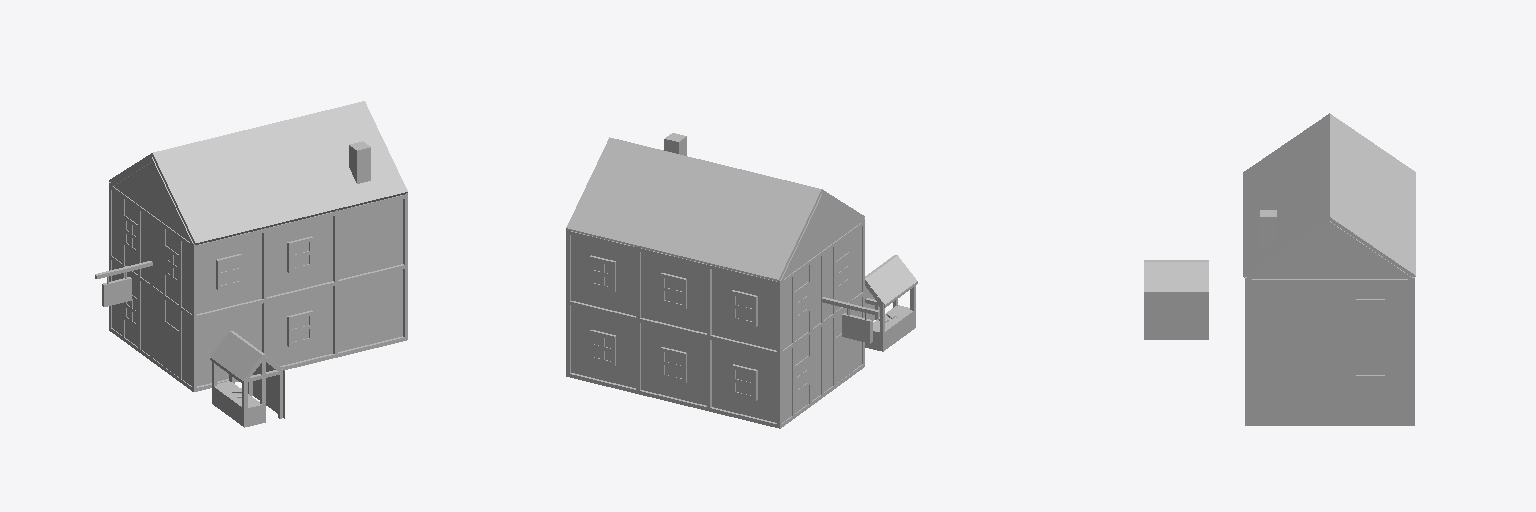
File: timberframedclothier_white_blue.obj
The picture shows the model from 3 angles: view 1: azimuth 30°, elevation 25°; view 2: azimuth 150°, elevation 25°; view 3: azimuth 270°, elevation 25°; orthographic projection.
Parts seen in each view (by area): view 1: Cube.005, Cube.007_Cube.011, Cube.011_Cube.015, Cube.018_Cube.016, Cube.056_Cube.081, Cube.001_Cube.058, Cube.013_Cube.080, Cube.006_Cube.010, Cube.055_Cube.059, Cube.026_Cube.019, Cube.073_Cube.078, Cube.012_Cube.017 (+5 smaller); view 2: Cube.005, Cube.007_Cube.011, Cube.023_Cube.026, Cube.022_Cube.025, Cube.021_Cube.024, Cube.015_Cube.020, Cube.019_Cube.022, Cube.017_Cube.021, Cube.014_Cube.018, Cube.008, Cube.020_Cube.023, Cube.073_Cube.078 (+6 smaller); view 3: Cube.005, Cube.007_Cube.011, Cube.147_Cube.153, Cube.003, Cube.033, Cube.027, Cube.047_Cube.049, Cube.031, Cube.016_Cube.013, Cube.006_Cube.010, Cube.012_Cube.017, Cube.035 (+4 smaller).
Boxes of the visible parts, <box> form: Cube.005: <box>112,162,402,385</box>; Cube.007_Cube.011: <box>109,101,407,244</box>; Cube.011_Cube.015: <box>195,264,406,319</box>; Cube.018_Cube.016: <box>195,195,406,249</box>; Cube.056_Cube.081: <box>216,254,242,289</box>; Cube.001_Cube.058: <box>287,310,312,346</box>; Cube.013_Cube.080: <box>287,236,312,272</box>; Cube.006_Cube.010: <box>349,141,370,183</box>; Cube.055_Cube.059: <box>197,336,406,391</box>; Cube.026_Cube.019: <box>192,243,196,391</box>; Cube.073_Cube.078: <box>102,277,131,306</box>; Cube.012_Cube.017: <box>403,193,407,339</box>; Cube.005: <box>571,199,861,422</box>; Cube.007_Cube.011: <box>566,137,864,280</box>; Cube.023_Cube.026: <box>567,373,776,427</box>; Cube.022_Cube.025: <box>567,301,776,355</box>; Cube.021_Cube.024: <box>570,231,776,284</box>; Cube.015_Cube.020: <box>732,290,757,326</box>; Cube.019_Cube.022: <box>661,347,686,383</box>; Cube.017_Cube.021: <box>590,330,615,365</box>; Cube.014_Cube.018: <box>661,273,686,308</box>; Cube.008: <box>590,255,615,291</box>; Cube.020_Cube.023: <box>732,364,757,400</box>; Cube.073_Cube.078: <box>842,313,872,343</box>; Cube.005: <box>1249,226,1409,421</box>; Cube.007_Cube.011: <box>1243,113,1415,277</box>; Cube.147_Cube.153: <box>1144,292,1208,339</box>; Cube.003: <box>1356,380,1384,421</box>; Cube.033: <box>1356,299,1384,329</box>; Cube.027: <box>1410,277,1414,425</box>; Cube.047_Cube.049: <box>1270,279,1274,423</box>; Cube.031: <box>1249,422,1410,425</box>; Cube.016_Cube.013: <box>1248,350,1409,353</box>; Cube.006_Cube.010: <box>1260,210,1276,249</box>; Cube.012_Cube.017: <box>1245,277,1248,425</box>; Cube.035: <box>1352,279,1355,423</box>.
Size of the model in its own units: 15.3 by 11.25 by 13.34.